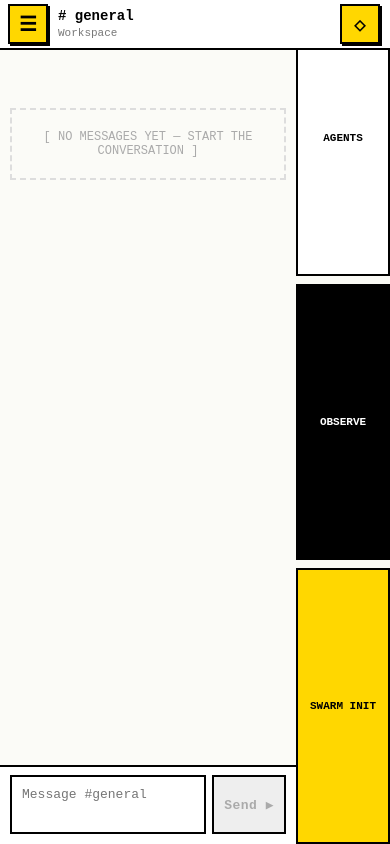
it: App › opens the mobile navigation drawer from the top bar
This screenshot has width=390, height=844.
Check: the text "Workspace" is shown, box x1=58 y1=27 x2=117 y2=39
Click the button named "Open navigation". click: x=28, y=24
box: x1=8 y1=4 x2=48 y2=44
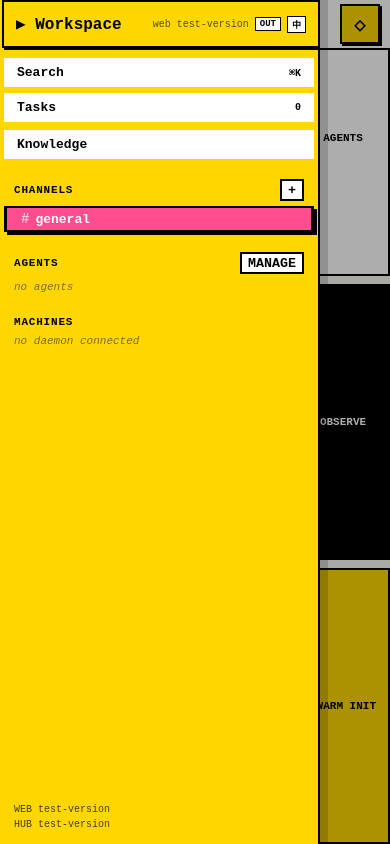
Check: the element with class "sidebar-mobile-open" is shown
